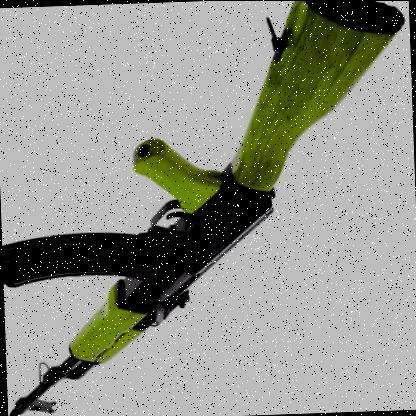rifle: (15, 0, 411, 416)
